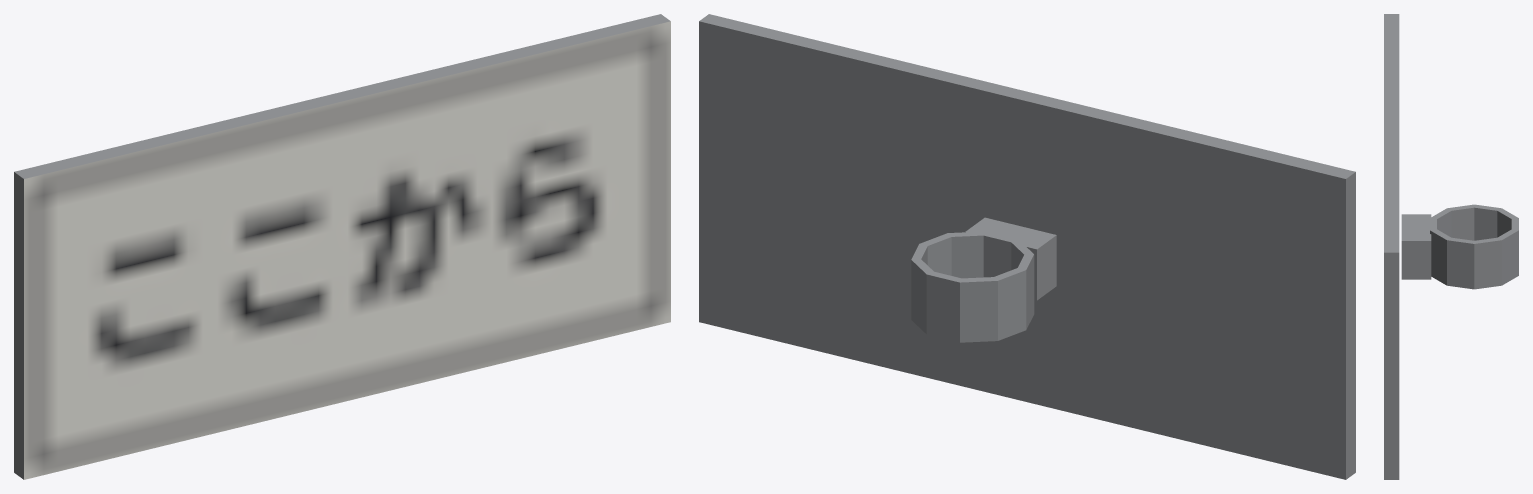
File: SM_Street_SignSub_Kokokara_01.fbx
3 views of the same model, side by side, from view 1: azimuth 30°, elevation 25°; view 2: azimuth 150°, elevation 25°; view 3: azimuth 270°, elevation 25° (orthographic). The views are drawn at different scales.
Visible parts, largest first — view 1: SM_Street_SignSub_Kokokara_01; view 2: SM_Street_SignSub_Kokokara_01; view 3: SM_Street_SignSub_Kokokara_01.
Part boxes in pixels (bbox=[...]): SM_Street_SignSub_Kokokara_01: bbox=[14, 14, 670, 479]; SM_Street_SignSub_Kokokara_01: bbox=[699, 14, 1355, 479]; SM_Street_SignSub_Kokokara_01: bbox=[1384, 14, 1518, 479].
Size of the model in its own units: 0.45 by 0.2 by 0.1074.
1 material, 1 textured.
